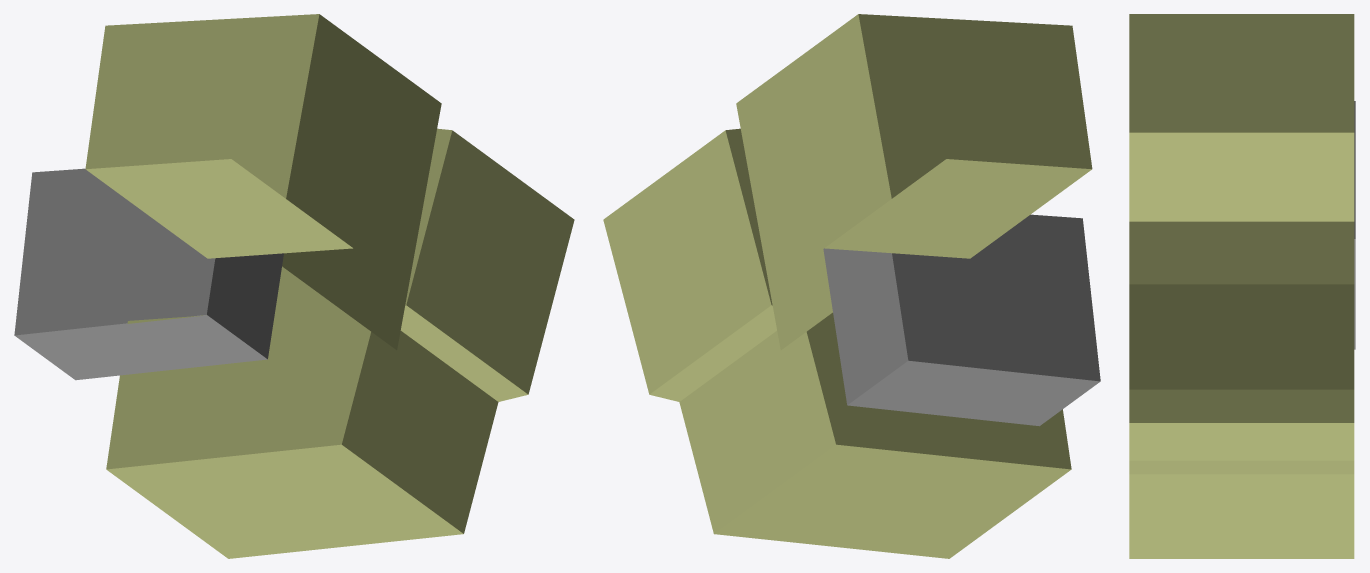
The picture shows the model from 3 angles, left to right: view 1: azimuth 30°, elevation 25°; view 2: azimuth 150°, elevation 25°; view 3: azimuth 270°, elevation 25°; orthographic projection. The views are drawn at different scales.
Parts seen in each view (by area): view 1: 0_1_1_3_3_1_3_3_1_3_0; view 2: 0_1_1_3_3_1_3_3_1_3_0; view 3: 0_1_1_3_3_1_3_3_1_3_0.
Part boxes in pixels (left/top/right/bottom): 0_1_1_3_3_1_3_3_1_3_0: left=14, top=14, right=574, bottom=558; 0_1_1_3_3_1_3_3_1_3_0: left=603, top=14, right=1100, bottom=558; 0_1_1_3_3_1_3_3_1_3_0: left=1129, top=14, right=1355, bottom=558.
Size of the model in its own units: 12.39 by 12.91 by 6.04.
